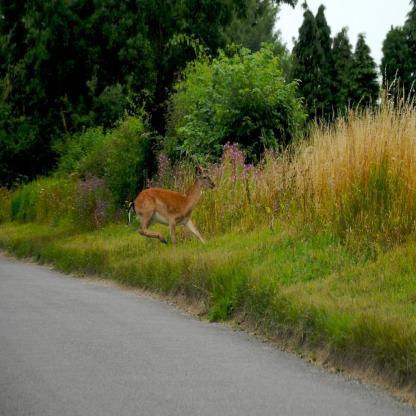Deer: (122, 154, 218, 253)
